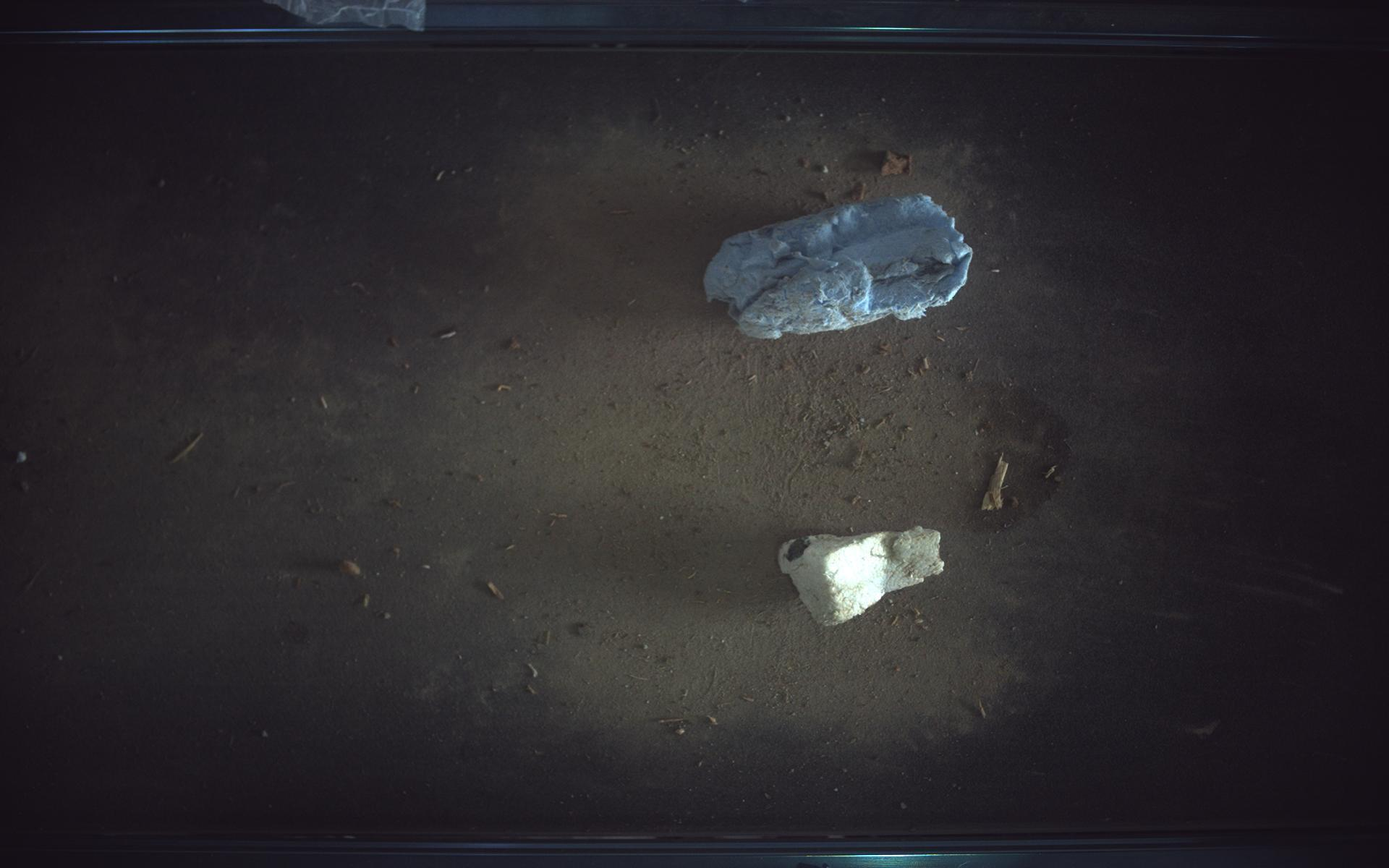foam: (705, 193, 974, 339), (779, 527, 946, 626)
